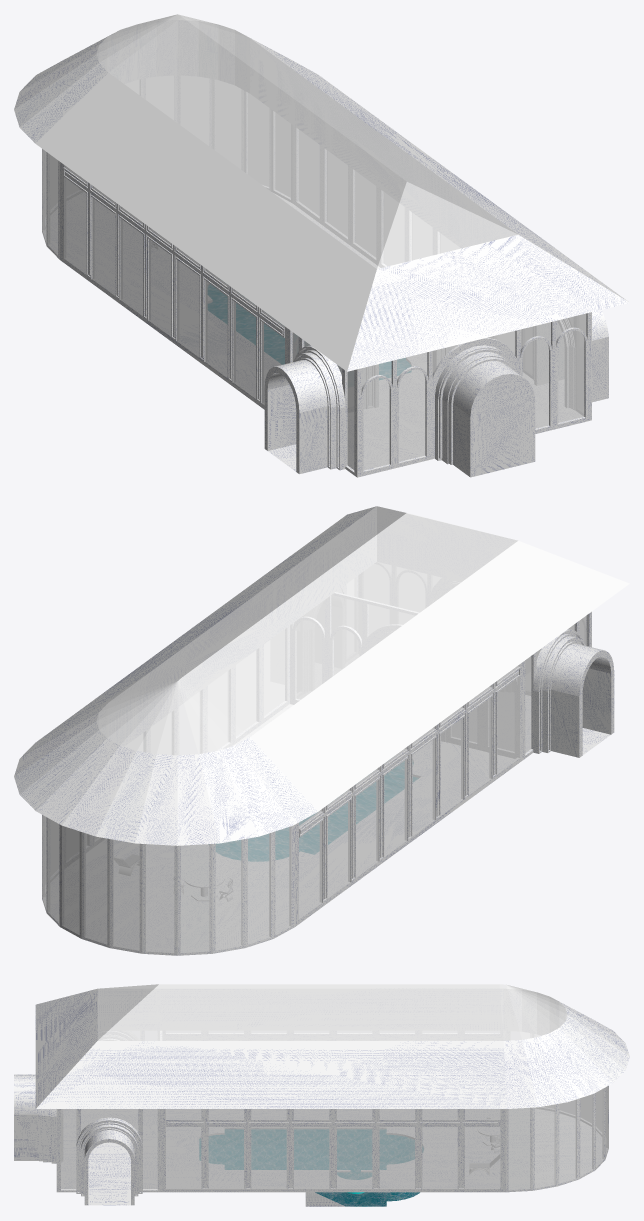
3 renders of one model, top to bottom at view 1: azimuth 30°, elevation 25°; view 2: azimuth 150°, elevation 25°; view 3: azimuth 270°, elevation 25°, orthographic. The views are drawn at different scales.
Parts seen in each view (by area): view 1: SketchUp (×35); view 2: SketchUp (×38); view 3: SketchUp (×34).
Part boxes in pixels (left/top/right/bottom): SketchUp (×35): left=14, top=14, right=629, bottom=477; SketchUp (×38): left=14, top=506, right=629, bottom=955; SketchUp (×34): left=14, top=984, right=629, bottom=1206.
Bounding box in the file's own units: 639 × 1454 × 525.
